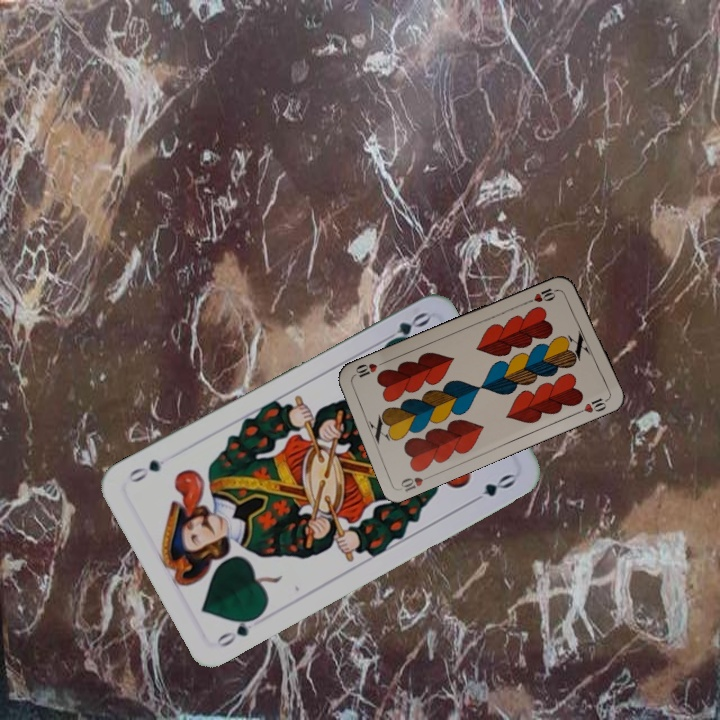GO: (377, 308, 432, 350), (212, 610, 264, 650)
H10: (397, 471, 436, 494), (523, 284, 562, 306)
